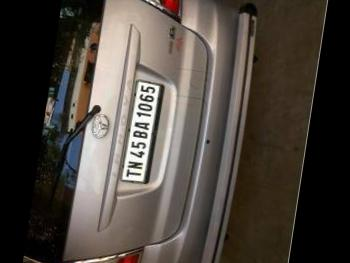plate: (121, 72, 168, 188)
